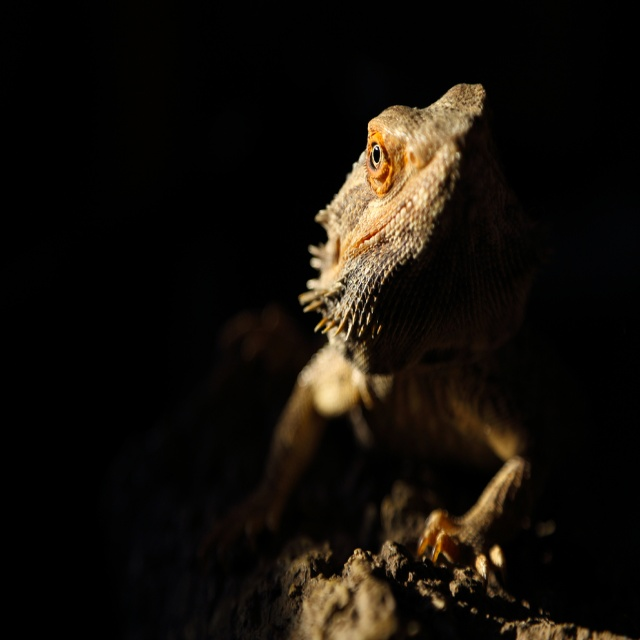Lizard: (242, 74, 543, 586)
